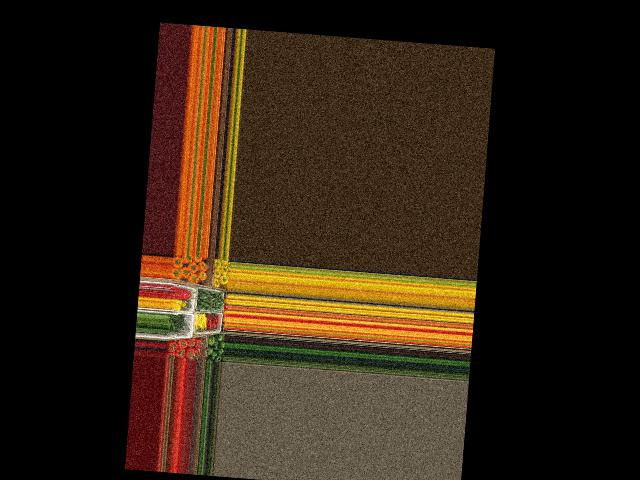bell_pepper: (204, 345, 216, 356)
